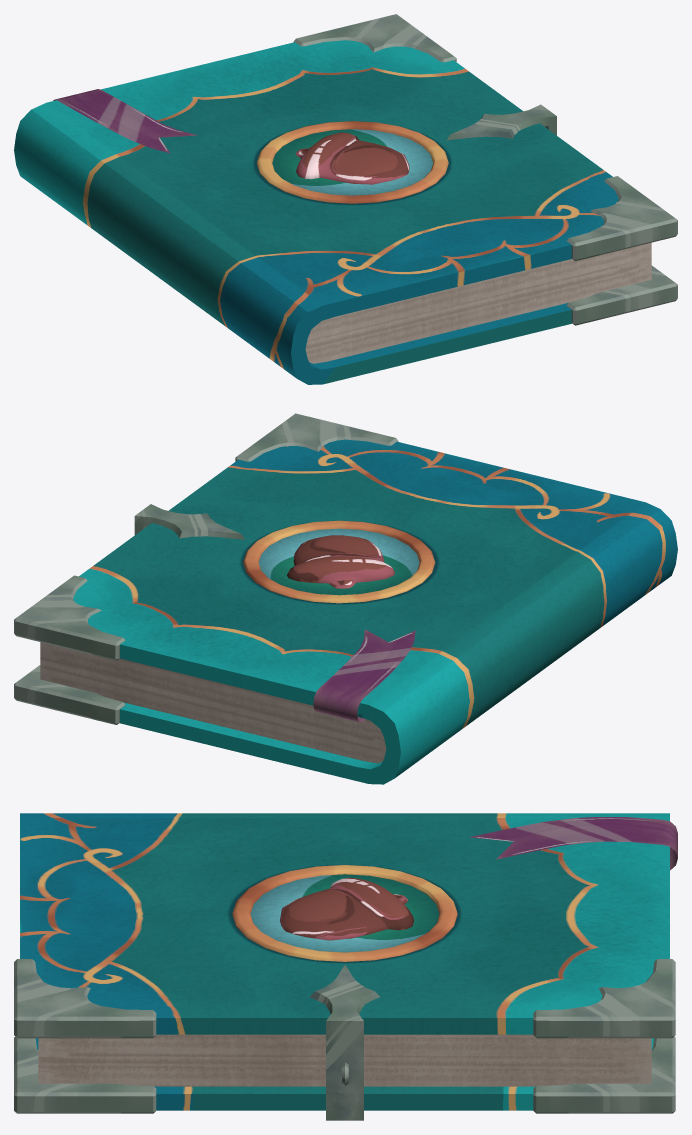
Rendered from Book_Pass_2.fbx.
The picture shows the model from 3 angles, top to bottom: view 1: azimuth 30°, elevation 25°; view 2: azimuth 150°, elevation 25°; view 3: azimuth 270°, elevation 25°; orthographic projection. The views are drawn at different scales.
Visible parts, largest first — view 1: Book, BottomPage, TopPage, Corner_Bevel, pCylinder2, pDisc1, pCube7, Corner_Bevel3, Corner_Bevel1, TopLock; view 2: Book, BottomPage, TopPage, Corner_Bevel3, pDisc1, pCube7, pCylinder2, Corner_Bevel, Corner_Bevel2, TopLock; view 3: Book, BottomPage, TopPage, Corner_Bevel3, Corner_Bevel, pCylinder2, pDisc1, Corner_Bevel2, Corner_Bevel1, pCube7, TopLock, BottomLock.
Part boxes in pixels (x1=…): Book: x1=14, y1=40, x2=618, y2=384; BottomPage: x1=305, y1=257, x2=651, y2=363; TopPage: x1=307, y1=242, x2=651, y2=340; Corner_Bevel: x1=567, y1=176, x2=677, y2=261; pCylinder2: x1=295, y1=132, x2=409, y2=184; pDisc1: x1=256, y1=121, x2=448, y2=203; pCube7: x1=53, y1=89, x2=197, y2=153; Corner_Bevel3: x1=293, y1=14, x2=456, y2=62; Corner_Bevel1: x1=566, y1=265, x2=677, y2=325; TopLock: x1=446, y1=104, x2=556, y2=140; Book: x1=73, y1=439, x2=677, y2=784; BottomPage: x1=40, y1=657, x2=386, y2=763; TopPage: x1=40, y1=642, x2=384, y2=740; Corner_Bevel3: x1=14, y1=575, x2=125, y2=660; pDisc1: x1=243, y1=520, x2=435, y2=603; pCube7: x1=313, y1=629, x2=415, y2=722; pCylinder2: x1=287, y1=535, x2=394, y2=588; Corner_Bevel: x1=235, y1=413, x2=398, y2=461; Corner_Bevel2: x1=14, y1=665, x2=125, y2=724; TopLock: x1=134, y1=504, x2=244, y2=539; Book: x1=20, y1=813, x2=669, y2=1110; BottomPage: x1=38, y1=1057, x2=651, y2=1086; TopPage: x1=38, y1=1034, x2=651, y2=1056; Corner_Bevel3: x1=533, y1=959, x2=675, y2=1038; Corner_Bevel: x1=14, y1=959, x2=156, y2=1038; pCylinder2: x1=280, y1=877, x2=413, y2=940; pDisc1: x1=232, y1=865, x2=457, y2=961; Corner_Bevel2: x1=533, y1=1036, x2=675, y2=1113; Corner_Bevel1: x1=14, y1=1036, x2=156, y2=1113; pCube7: x1=469, y1=817, x2=677, y2=870; TopLock: x1=310, y1=965, x2=379, y2=1093; BottomLock: x1=326, y1=1065, x2=363, y2=1120.
Bounding box in the file's own units: 9.25 × 2.14 × 11.14.
